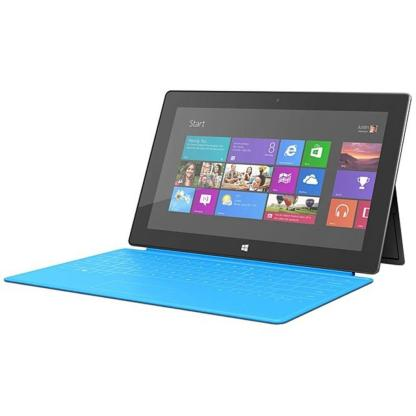board: (34, 89, 416, 338)
